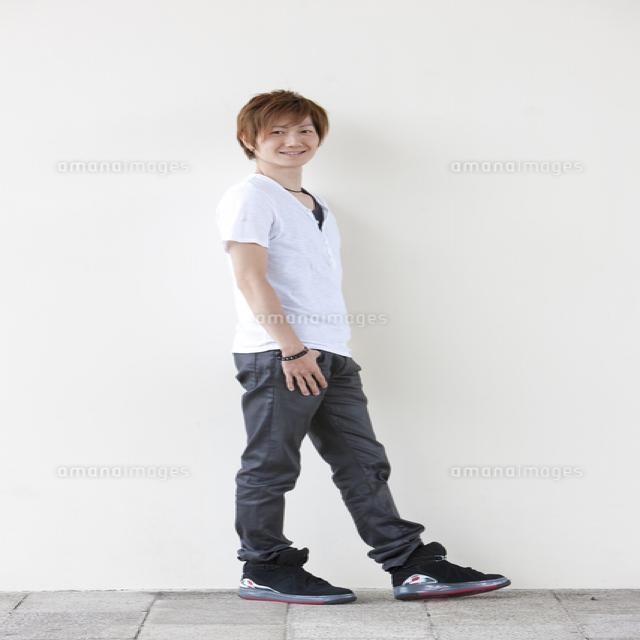direk: (218, 86, 518, 604)
